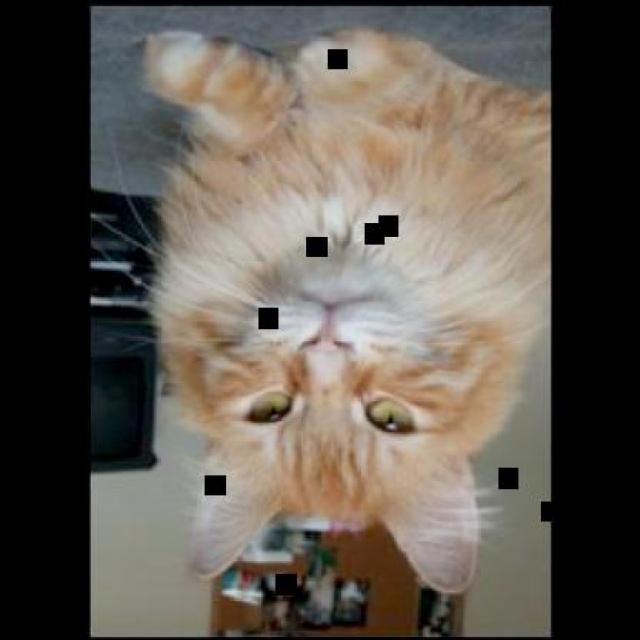unauthorized: (104, 23, 550, 595)
